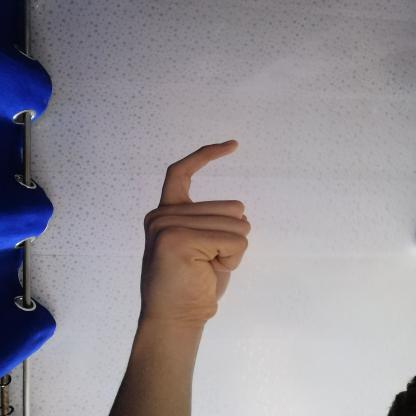RAA: (122, 129, 260, 327)
